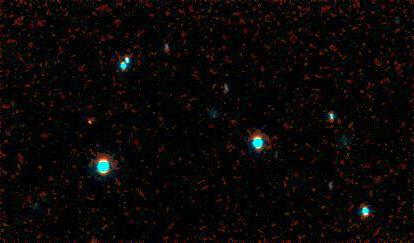star: (77, 106, 107, 136)
